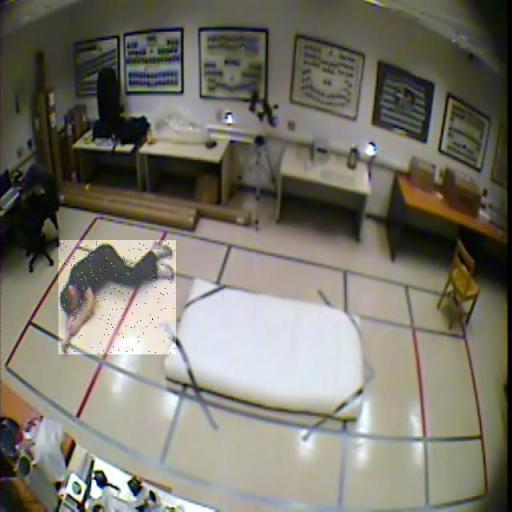Fall: (58, 240, 176, 354)
